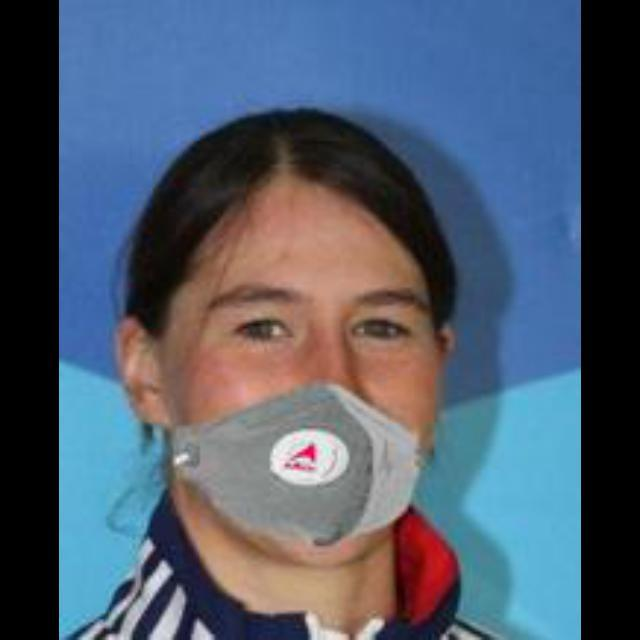suspicion: (99, 135, 463, 592)
